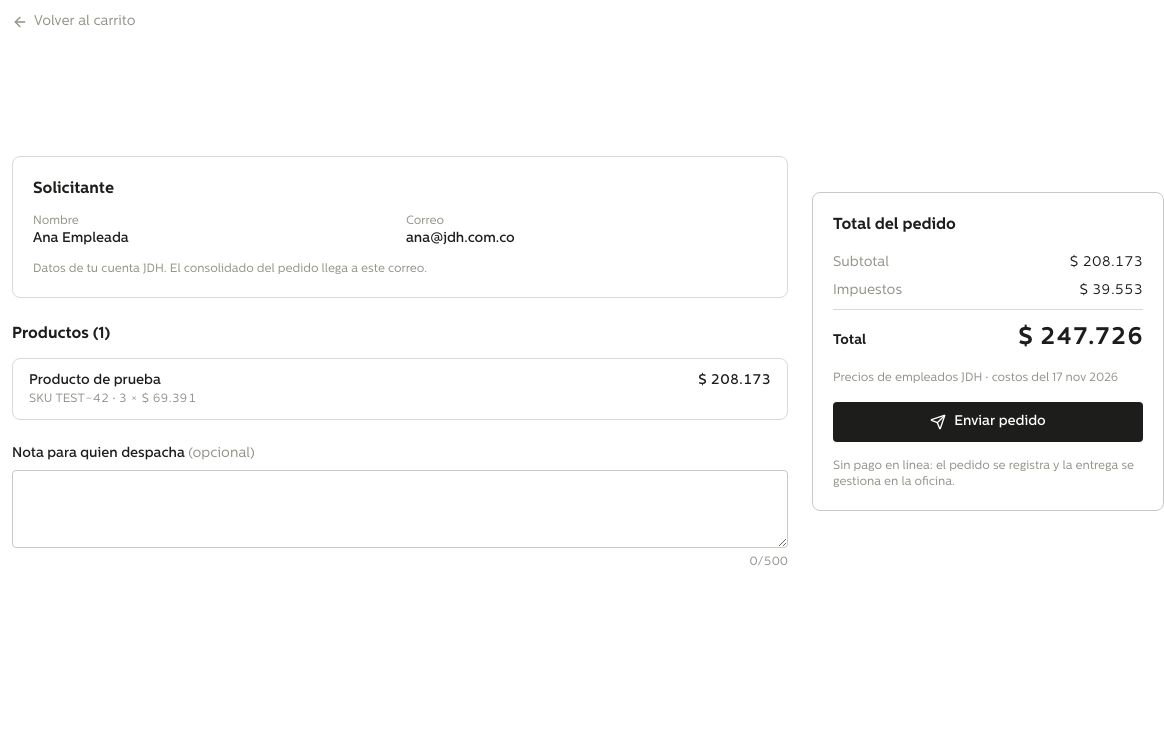
finalizar pedido › 409 de precios: pinta el total nuevo y pide confirmar otra vez
Later steps or results of the test are not shown.
Expected: the text "Ana Empleada" is shown, x1=33 y1=231 x2=129 y2=246
Click the button "Enviar pedido": (988, 422) x1=833 y1=402 x2=1143 y2=442
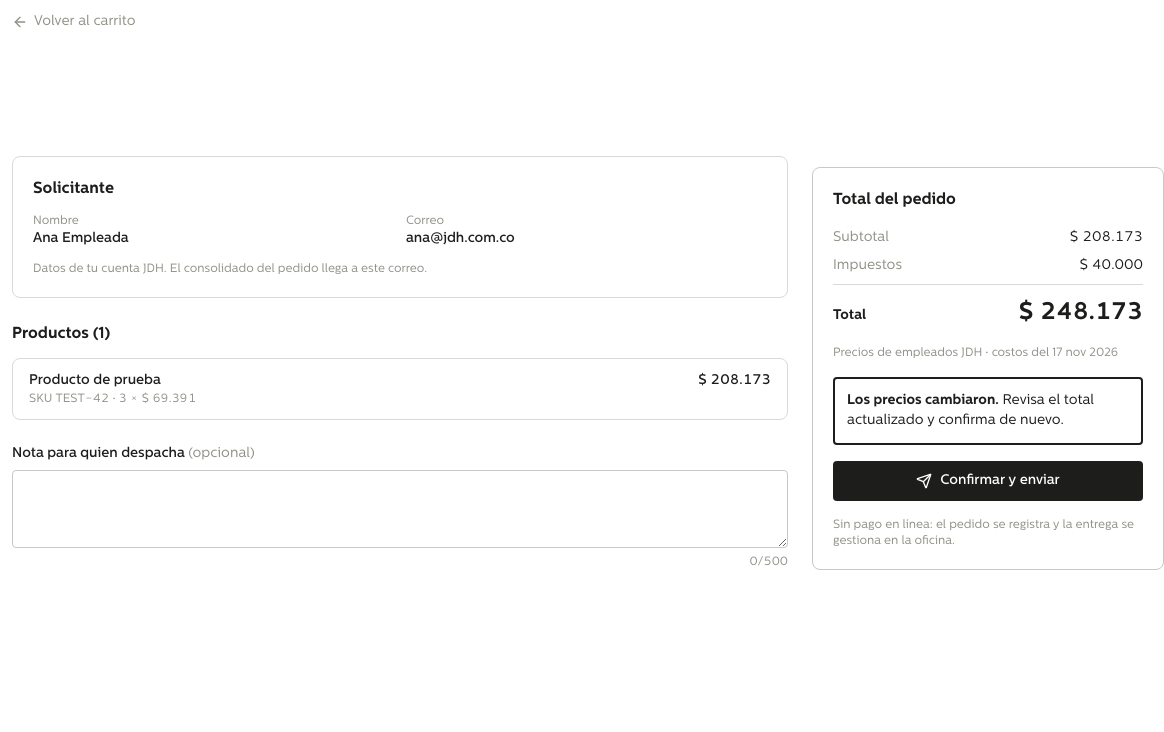
Result: the text "Los precios cambiaron." is shown at x1=847 y1=393 x2=999 y2=408
Result: the text "$ 248.173" is shown at x1=1018 y1=297 x2=1143 y2=329
